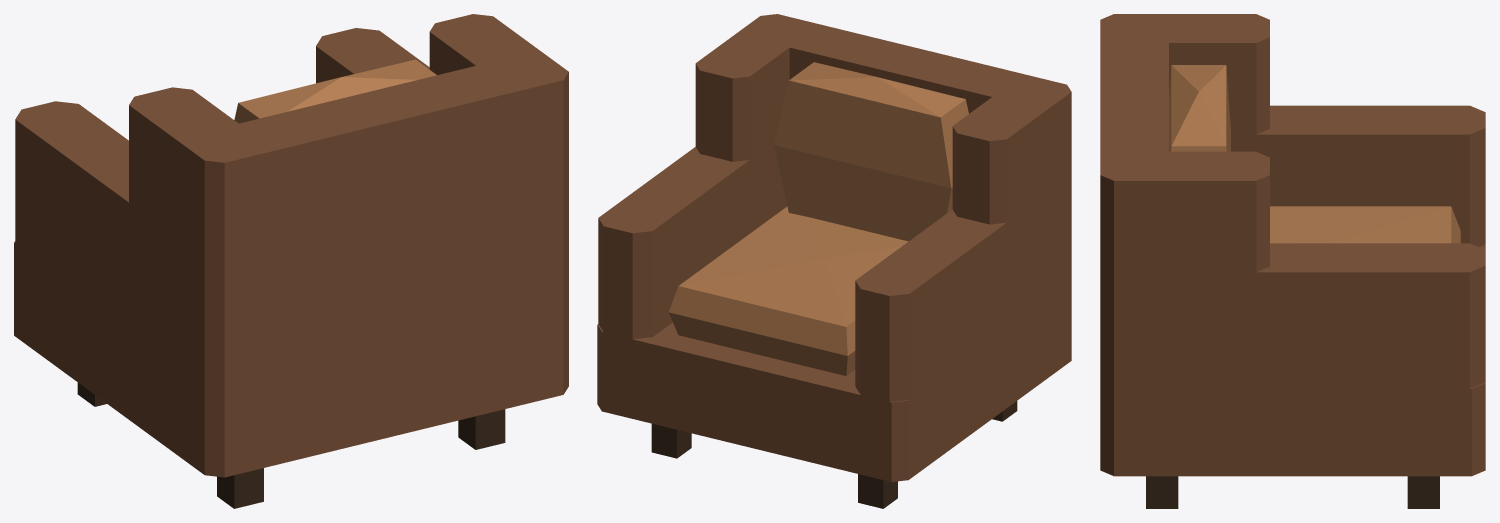
File: SM_LPI_Seat_Armchair_02.fbx
3 renders of one model, left to right at view 1: azimuth 30°, elevation 25°; view 2: azimuth 150°, elevation 25°; view 3: azimuth 270°, elevation 25°, orthographic. The views are drawn at different scales.
Visible parts, largest first — view 1: SM_LPI_Seat_Armchair_02; view 2: SM_LPI_Seat_Armchair_02; view 3: SM_LPI_Seat_Armchair_02.
Part boxes in pixels (x1,y1,x2,y2): SM_LPI_Seat_Armchair_02: (14,14,568,508); SM_LPI_Seat_Armchair_02: (597,14,1071,508); SM_LPI_Seat_Armchair_02: (1100,14,1485,508).
Bounding box in the file's own units: 0.86 × 0.8536 × 0.84.
